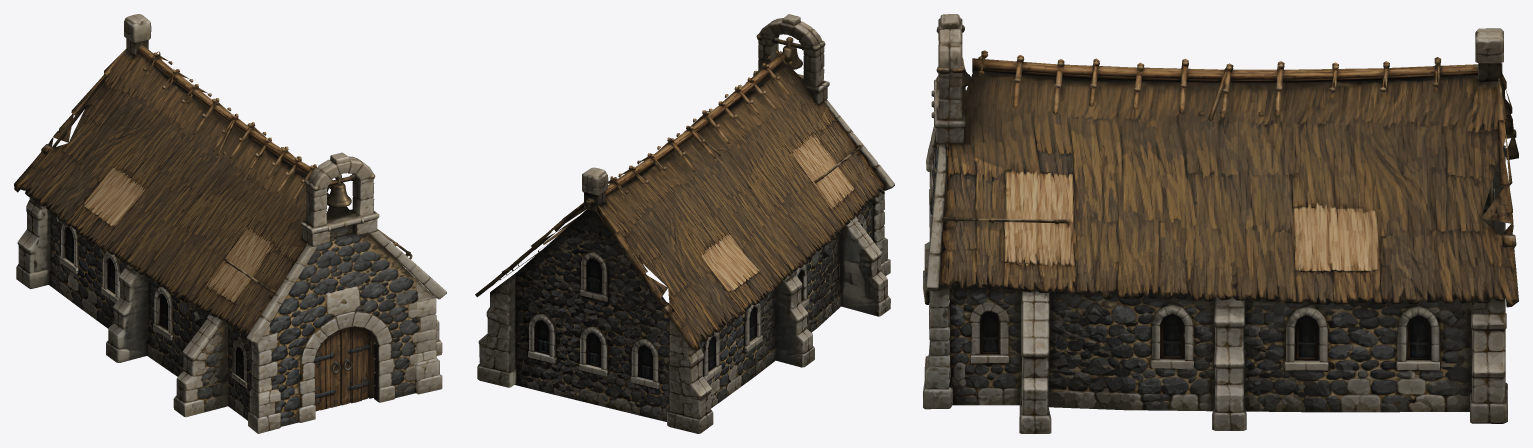
The model's file is act1_extras_v1_flint_church.glb.
3 views of the same model, side by side, from view 1: azimuth 30°, elevation 25°; view 2: azimuth 150°, elevation 25°; view 3: azimuth 270°, elevation 25° (orthographic). The views are drawn at different scales.
Parts seen in each view (by area): view 1: tripo_7015aa3b_d59a_48ee_b55a_5795414d2e01; view 2: tripo_7015aa3b_d59a_48ee_b55a_5795414d2e01; view 3: tripo_7015aa3b_d59a_48ee_b55a_5795414d2e01.
Part boxes in pixels (<box>): tripo_7015aa3b_d59a_48ee_b55a_5795414d2e01: <box>14,14,446,433</box>; tripo_7015aa3b_d59a_48ee_b55a_5795414d2e01: <box>475,14,894,433</box>; tripo_7015aa3b_d59a_48ee_b55a_5795414d2e01: <box>923,14,1518,433</box>.
Bounding box in the file's own units: 0.6675 × 0.6167 × 0.9995.
Materials: 1 (1 with a texture image).
